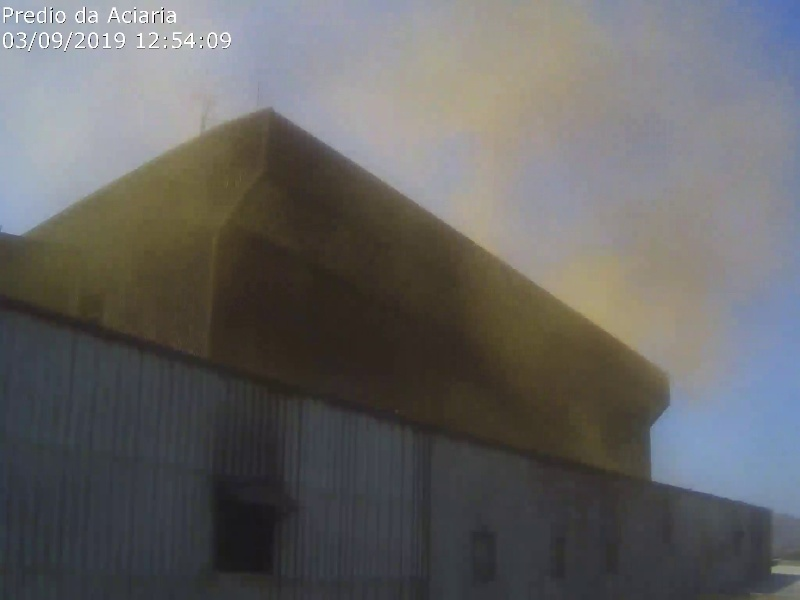pessimo: (240, 7, 778, 405)
